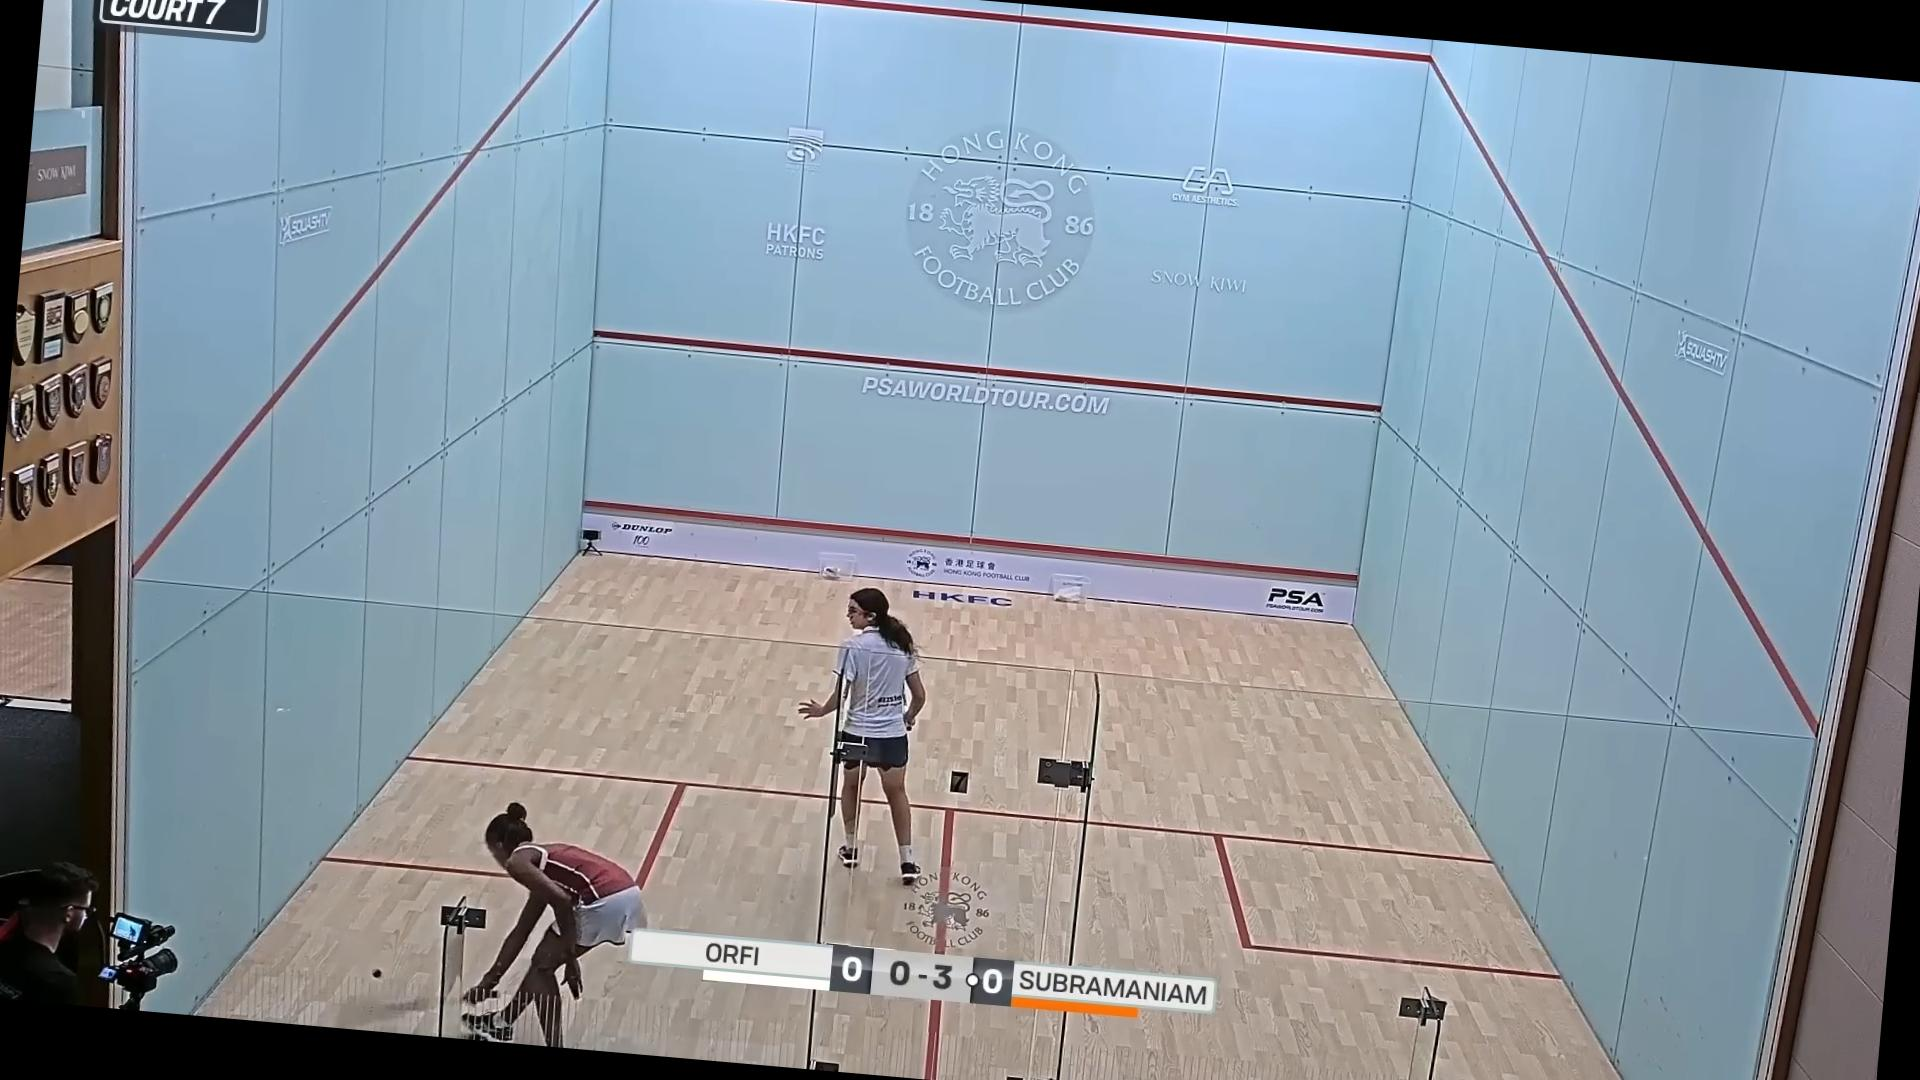Squash-Ball: (357, 952, 400, 997)
